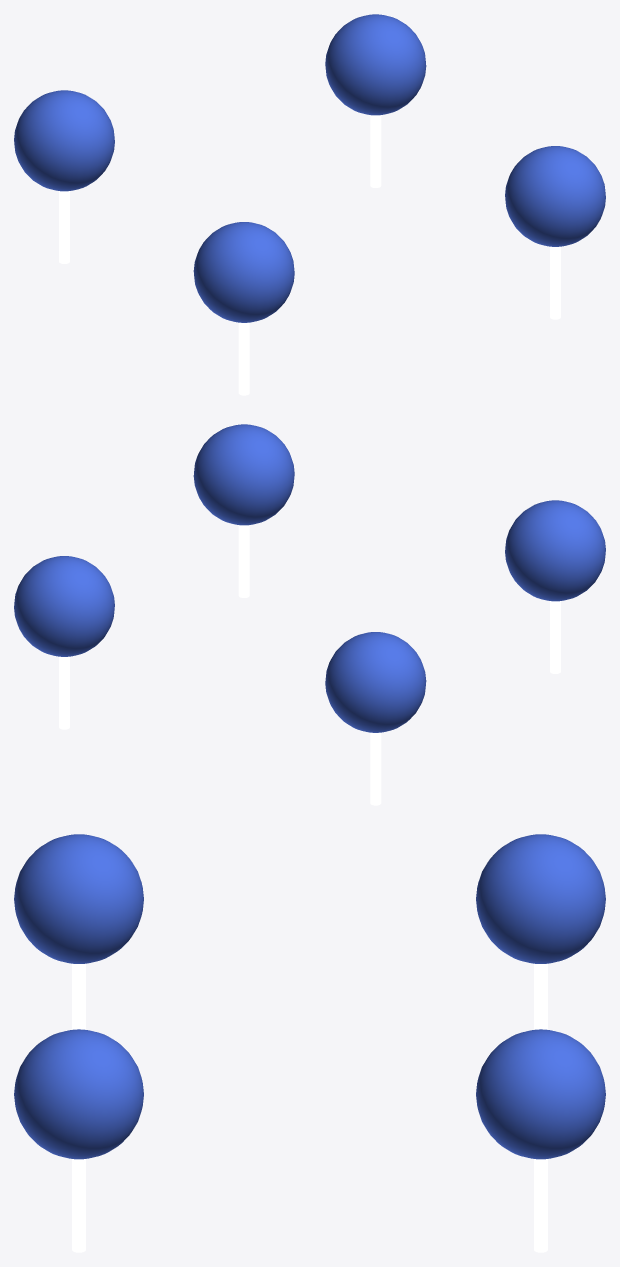
The picture shows the model from 3 angles, top to bottom: view 1: azimuth 30°, elevation 25°; view 2: azimuth 150°, elevation 25°; view 3: azimuth 270°, elevation 25°; orthographic projection. The views are drawn at different scales.
Visible parts, largest first — view 1: Sphere.002, Sphere.001, Sphere.003, Sphere, Cylinder, Cylinder.002, Cylinder.003, Cylinder.001; view 2: Sphere.003, Sphere, Sphere.002, Sphere.001, Cylinder.001, Cylinder.003, Cylinder.002, Cylinder; view 3: Sphere.003, Sphere.002, Sphere, Sphere.001, Cylinder.003, Cylinder.002, Cylinder, Cylinder.001.
Part boxes in pixels (x1=…): Sphere.002: x1=325, y1=14, x2=426, y2=115; Sphere.001: x1=14, y1=90, x2=114, y2=191; Sphere.003: x1=505, y1=146, x2=605, y2=246; Sphere: x1=193, y1=222, x2=294, y2=322; Cylinder: x1=238, y1=322, x2=249, y2=395; Cylinder.002: x1=370, y1=115, x2=381, y2=187; Cylinder.003: x1=550, y1=246, x2=560, y2=319; Cylinder.001: x1=59, y1=191, x2=69, y2=263; Sphere.003: x1=193, y1=424, x2=294, y2=525; Sphere: x1=505, y1=500, x2=605, y2=601; Sphere.002: x1=14, y1=556, x2=114, y2=656; Sphere.001: x1=325, y1=632, x2=426, y2=732; Cylinder.001: x1=370, y1=732, x2=381, y2=805; Cylinder.003: x1=238, y1=525, x2=249, y2=597; Cylinder.002: x1=59, y1=656, x2=69, y2=729; Cylinder: x1=550, y1=601, x2=560, y2=673; Sphere.003: x1=14, y1=1029, x2=143, y2=1159; Sphere.002: x1=476, y1=1029, x2=605, y2=1159; Sphere: x1=14, y1=834, x2=143, y2=963; Sphere.001: x1=476, y1=834, x2=605, y2=963; Cylinder.003: x1=72, y1=1159, x2=85, y2=1252; Cylinder.002: x1=534, y1=1159, x2=547, y2=1252; Cylinder: x1=72, y1=963, x2=85, y2=1029; Cylinder.001: x1=534, y1=963, x2=547, y2=1029.
Bounding box in the file's own units: 2.56 × 1.02 × 2.56.
